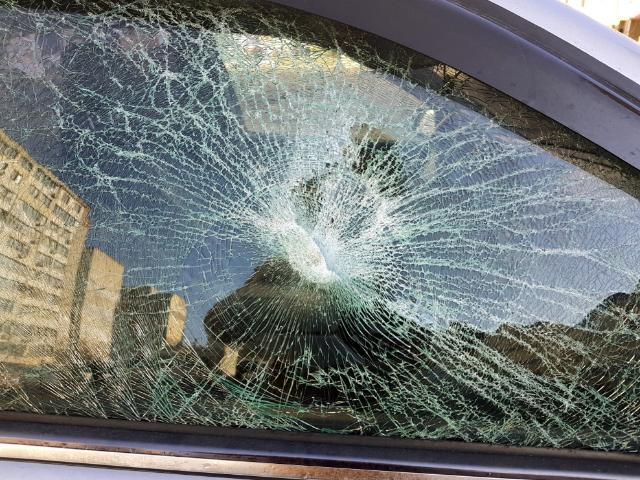Door: (1, 0, 640, 480)
